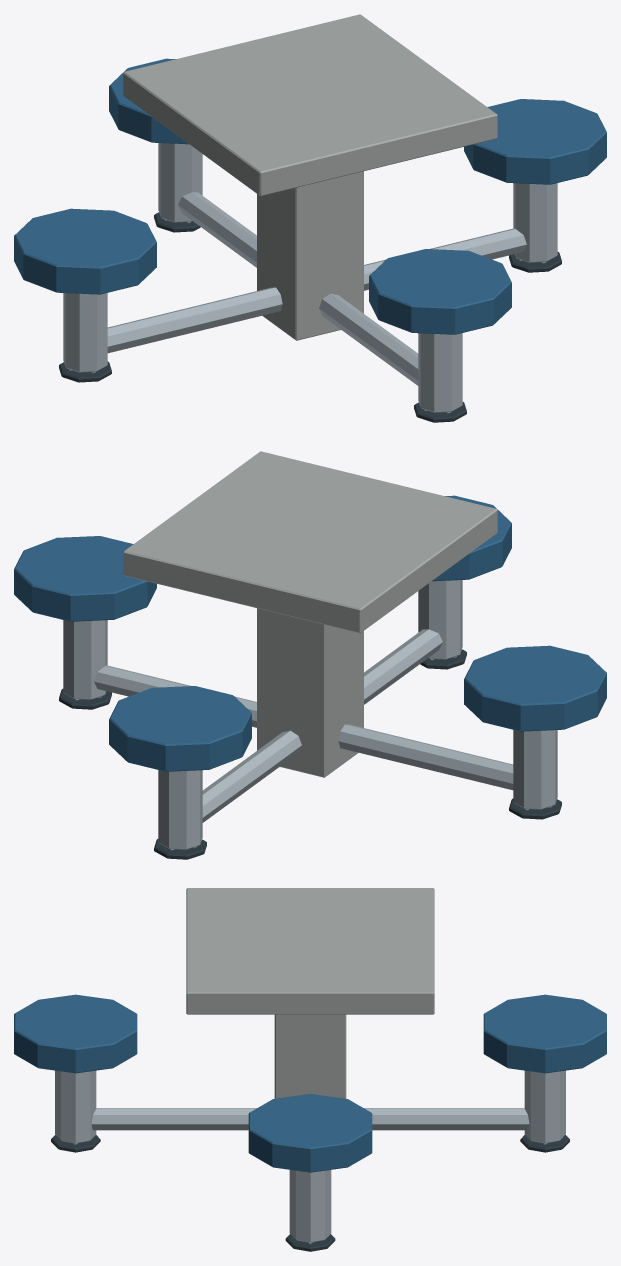
File: b01_square_four_stool_table.glb
The picture shows the model from 3 angles, top to bottom: view 1: azimuth 30°, elevation 25°; view 2: azimuth 150°, elevation 25°; view 3: azimuth 270°, elevation 25°; orthographic projection. The views are drawn at different scales.
Visible parts, largest first — view 1: b01_square_four_stool_table; view 2: b01_square_four_stool_table; view 3: b01_square_four_stool_table.
Part boxes in pixels (box(x1,y1,x2,y2)): b01_square_four_stool_table: box(14, 14, 606, 422); b01_square_four_stool_table: box(14, 451, 606, 859); b01_square_four_stool_table: box(14, 888, 606, 1251).
Bounding box in the file's own units: 2.17 × 0.815 × 2.15.
